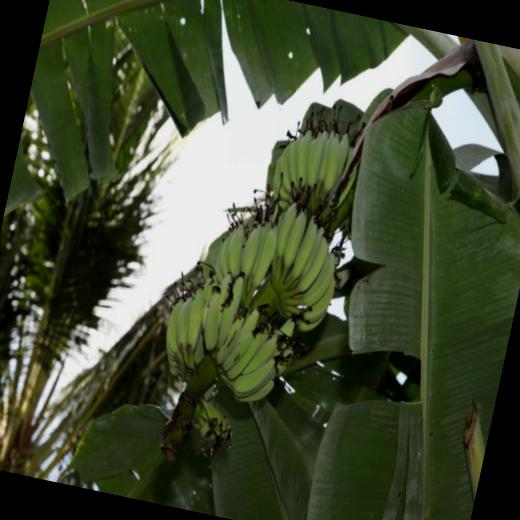Banana: (140, 71, 388, 451)
